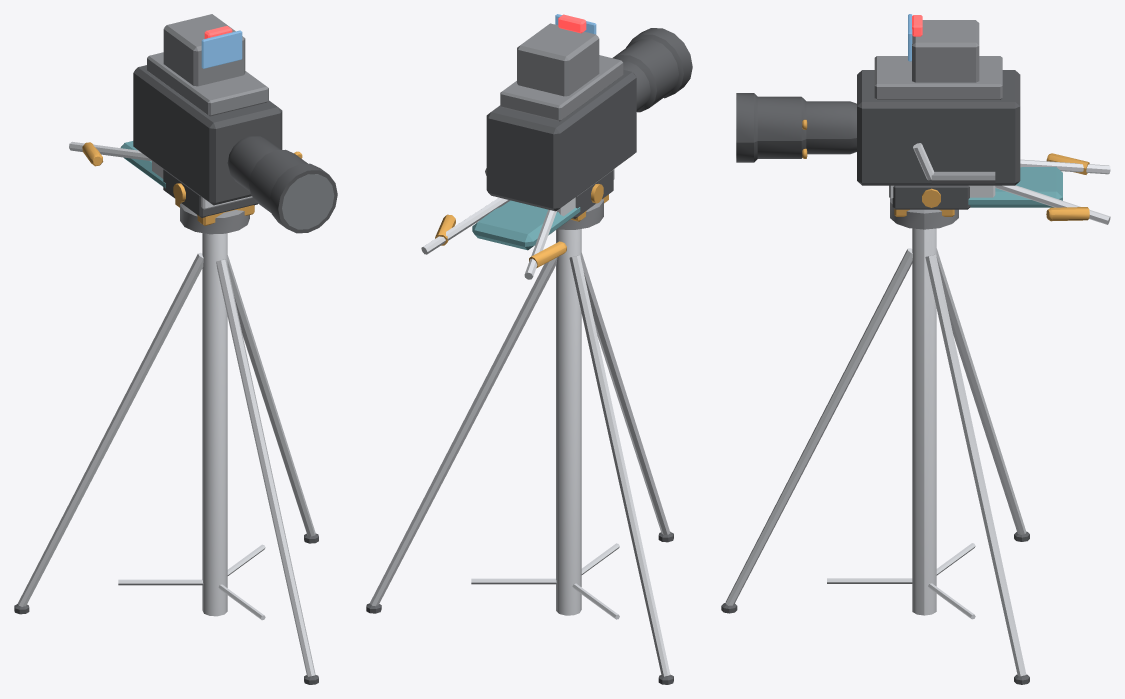
The model's file is 35497_Shoulder_Camera_on_a_Tripod__TV_Studio_and_Broadcast_Gallery_.glb.
The picture shows the model from 3 angles, left to right: view 1: azimuth 30°, elevation 25°; view 2: azimuth 150°, elevation 25°; view 3: azimuth 270°, elevation 25°; orthographic projection.
Parts seen in each view (by area): view 1: shoulder-camera-on-tripod, head/dark, head/gear, head/glass, head/screen, head/metal, head/accent; view 2: shoulder-camera-on-tripod, head/dark, head/gear, head/fabric, head/metal, head/accent; view 3: head/dark, shoulder-camera-on-tripod, head/gear, head/metal, head/fabric, head/accent.
Part boxes in pixels (x1=…): shoulder-camera-on-tripod: x1=14, y1=199, x2=318, y2=684; head/dark: x1=133, y1=65, x2=337, y2=233; head/gear: x1=147, y1=14, x2=268, y2=234; head/glass: x1=282, y1=174, x2=333, y2=229; head/screen: x1=201, y1=30, x2=242, y2=68; head/metal: x1=69, y1=141, x2=252, y2=209; head/accent: x1=82, y1=142, x2=302, y2=202; shoulder-camera-on-tripod: x1=366, y1=194, x2=673, y2=684; head/dark: x1=486, y1=28, x2=692, y2=218; head/gear: x1=485, y1=23, x2=623, y2=229; head/fabric: x1=472, y1=200, x2=580, y2=250; head/metal: x1=421, y1=169, x2=614, y2=279; head/accent: x1=435, y1=183, x2=603, y2=268; head/dark: x1=736, y1=70, x2=1020, y2=209; shoulder-camera-on-tripod: x1=721, y1=209, x2=1029, y2=684; head/gear: x1=874, y1=20, x2=1002, y2=229; head/metal: x1=889, y1=143, x2=1110, y2=224; head/fabric: x1=968, y1=167, x2=1062, y2=207; head/accent: x1=802, y1=119, x2=1089, y2=221.
Bounding box in the file's own units: 0.9974 × 1.84 × 1.1.
